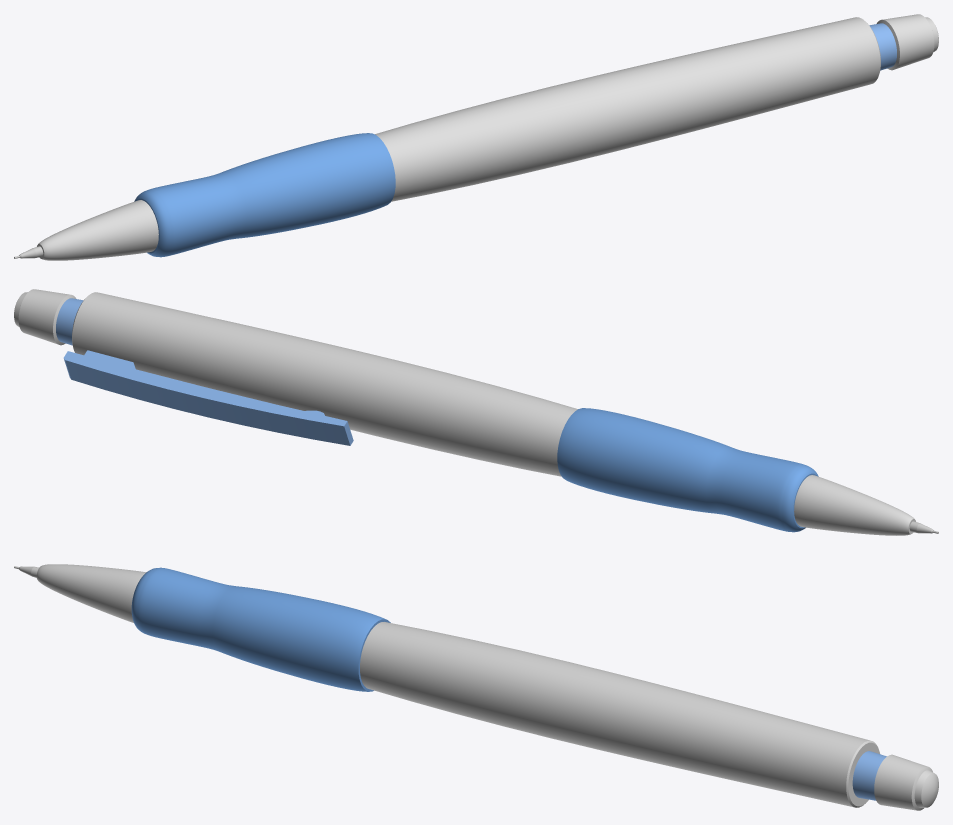
The model's file is 197_シャープペン.glb.
The picture shows the model from 3 angles, top to bottom: view 1: azimuth 30°, elevation 25°; view 2: azimuth 150°, elevation 25°; view 3: azimuth 330°, elevation 25°; orthographic projection.
Parts seen in each view (by area): view 1: body; view 2: body; view 3: body.
Boxes of the visible parts, bbox=[...] form: body: bbox=[14, 14, 938, 260]; body: bbox=[14, 289, 938, 535]; body: bbox=[14, 564, 938, 810].
Size of the model in its own units: 0.144 by 0.011 by 0.0143.
